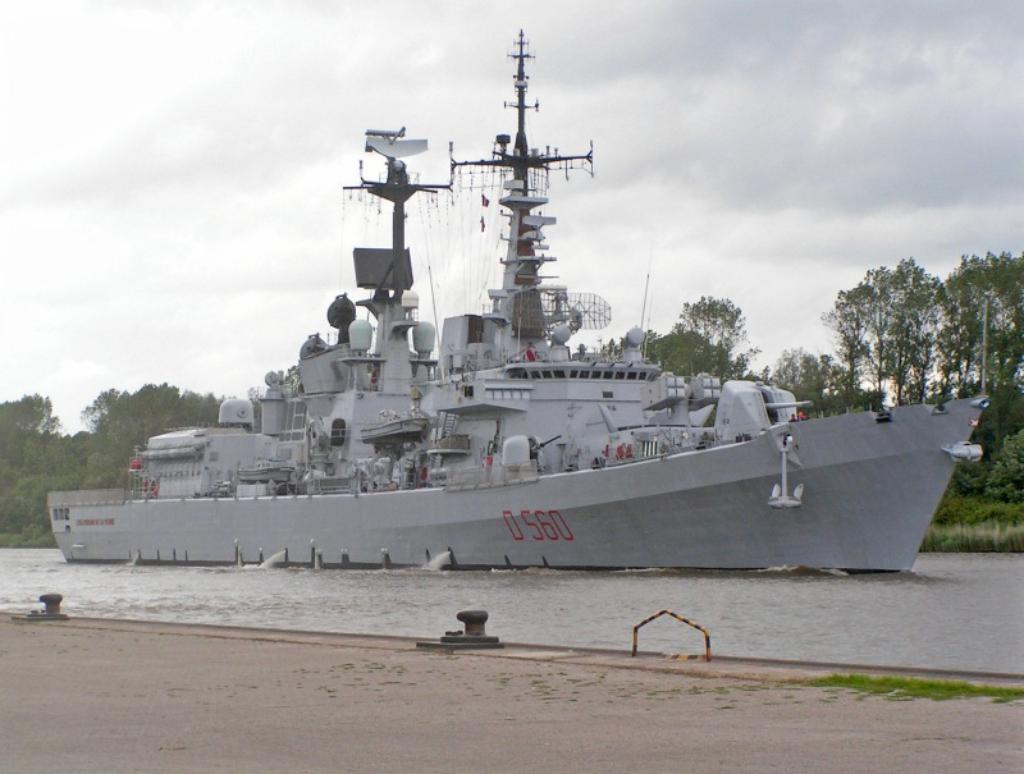Warship: (48, 21, 992, 579)
